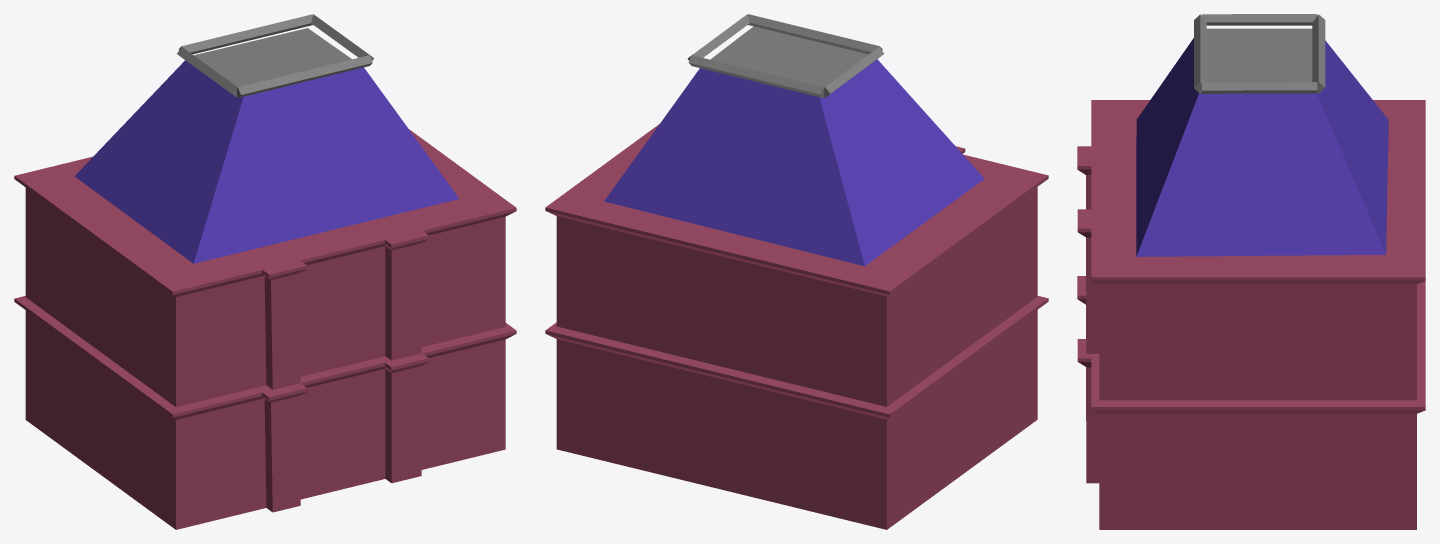
File: schoolhouse.obj
3 views of the same model, side by side, from view 1: azimuth 30°, elevation 25°; view 2: azimuth 150°, elevation 25°; view 3: azimuth 270°, elevation 25° (orthographic). The views are drawn at different scales.
Visible parts, largest first — view 1: pCube16, pCube10, pPyramid2, pCube13, pCube14, pCube15, pCube12; view 2: pCube16, pCube10, pPyramid2, pCube14, pCube13, pCube15, pCube12; view 3: pCube16, pPyramid2, pCube10, pCube12, pCube15, pCube14, pCube13.
Boxes of the visible parts, bbox=[...] form: pCube16: bbox=[14, 129, 516, 406]; pCube10: bbox=[14, 296, 516, 529]; pPyramid2: bbox=[74, 28, 459, 263]; pCube13: bbox=[237, 55, 372, 97]; pCube14: bbox=[179, 14, 313, 54]; pCube15: bbox=[177, 47, 237, 97]; pCube12: bbox=[311, 15, 373, 60]; pCube16: bbox=[545, 124, 1048, 406]; pCube10: bbox=[545, 296, 1048, 529]; pPyramid2: bbox=[604, 26, 984, 266]; pCube14: bbox=[688, 55, 824, 98]; pCube13: bbox=[747, 14, 882, 54]; pCube15: bbox=[824, 47, 884, 97]; pCube12: bbox=[687, 14, 749, 60]; pCube16: bbox=[1077, 100, 1425, 400]; pPyramid2: bbox=[1136, 28, 1388, 256]; pCube10: bbox=[1077, 276, 1425, 529]; pCube12: bbox=[1202, 82, 1317, 93]; pCube15: bbox=[1202, 14, 1317, 25]; pCube14: bbox=[1312, 14, 1325, 93]; pCube13: bbox=[1194, 14, 1206, 93].
Size of what is drawn, in the model's own units: 619 by 655 by 514.
3 materials, 2 textured.
